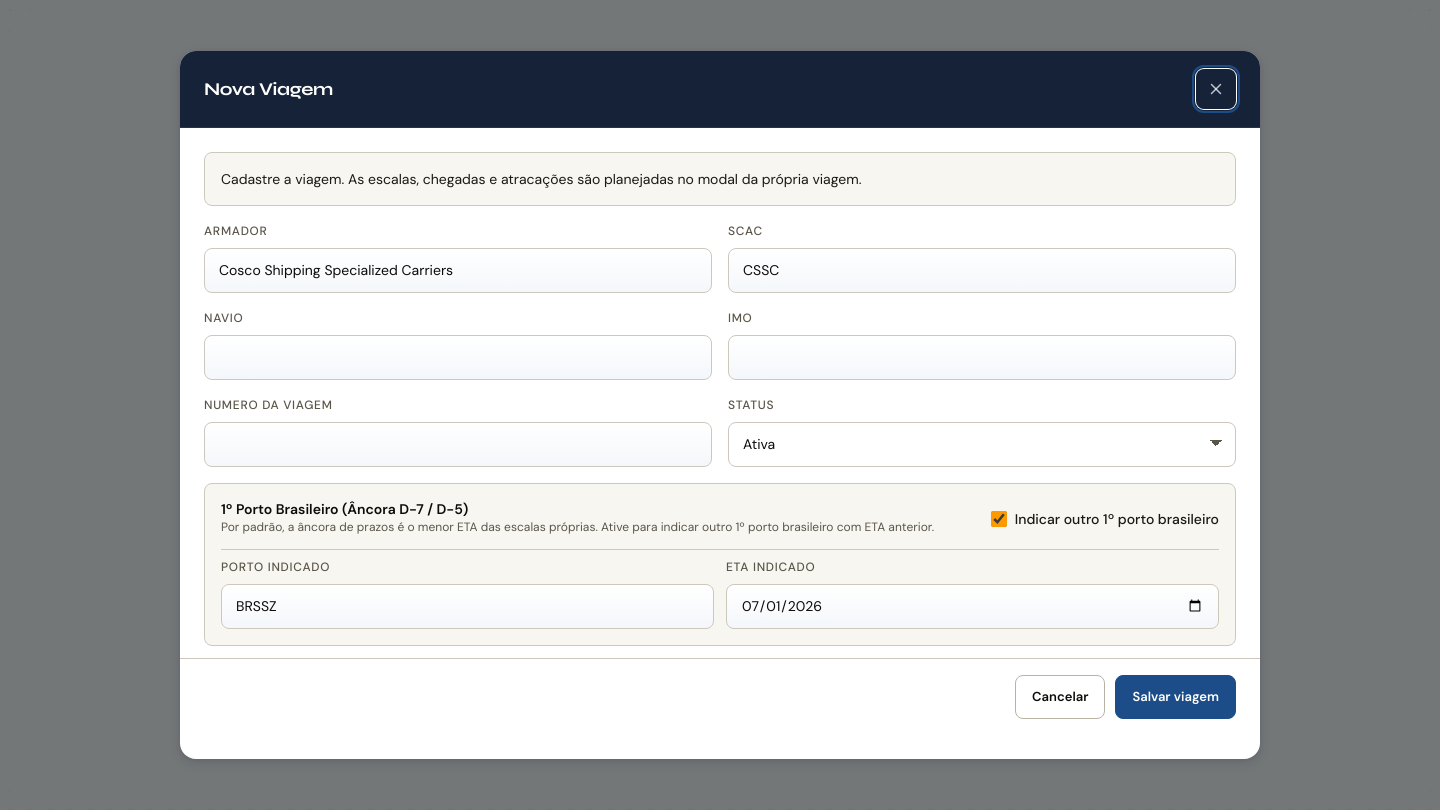
Test case: VoyageCreateModal › limpa os campos indicados ao desativar o toggle
expect the field labelled "Porto indicado" holds "BRSSZ": met, box [221,584,714,629]
What coordinates should you click on to do the following:
click the checkbox labelled "Indicar outro 1º porto brasileiro"
I would click on:
 (999, 518)
Its box is [991,510,1007,526].
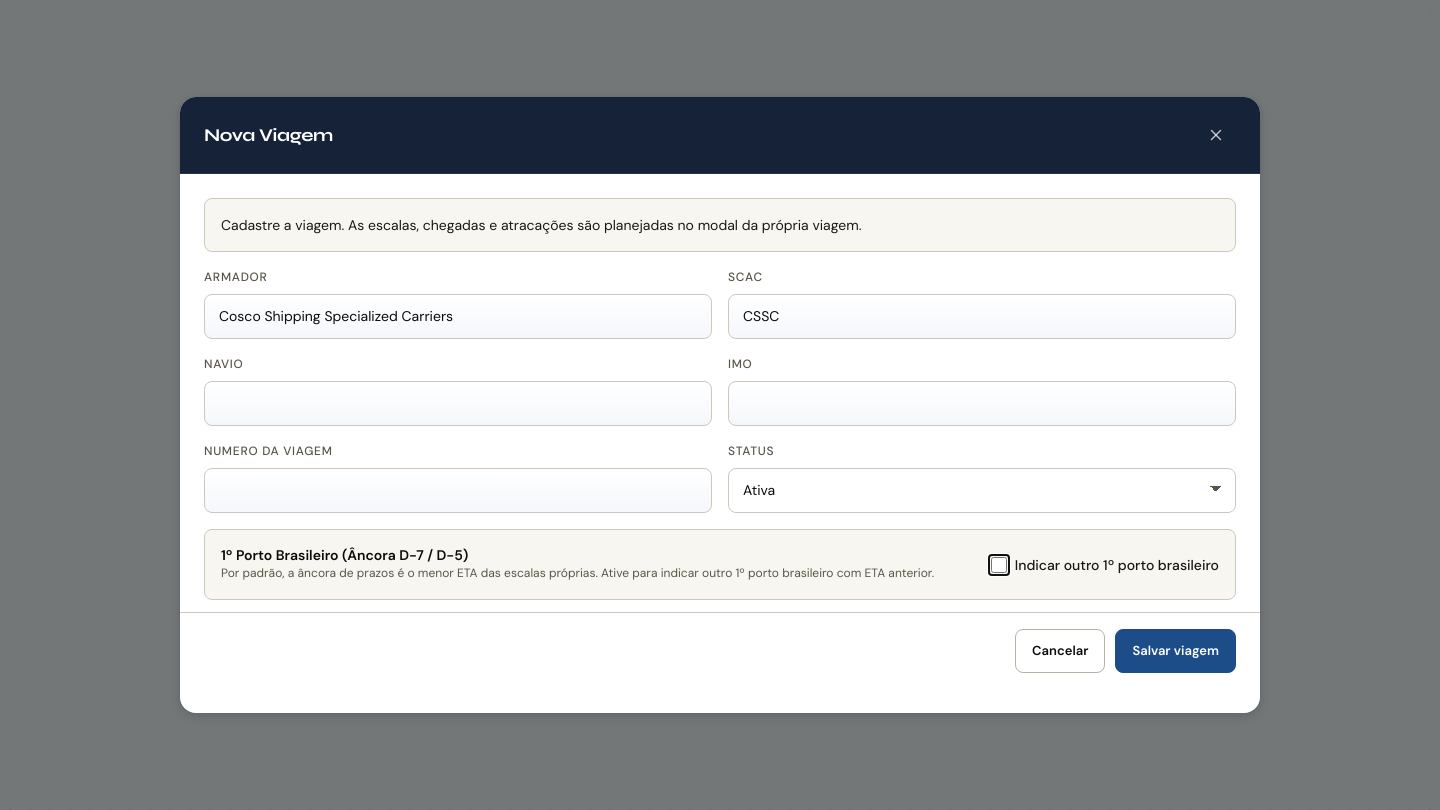
expect the checkbox labelled "Indicar outro 1º porto brasileiro" is not checked: met, box [991,556,1007,572]
expect the text labelled "Porto indicado" is gone: met
